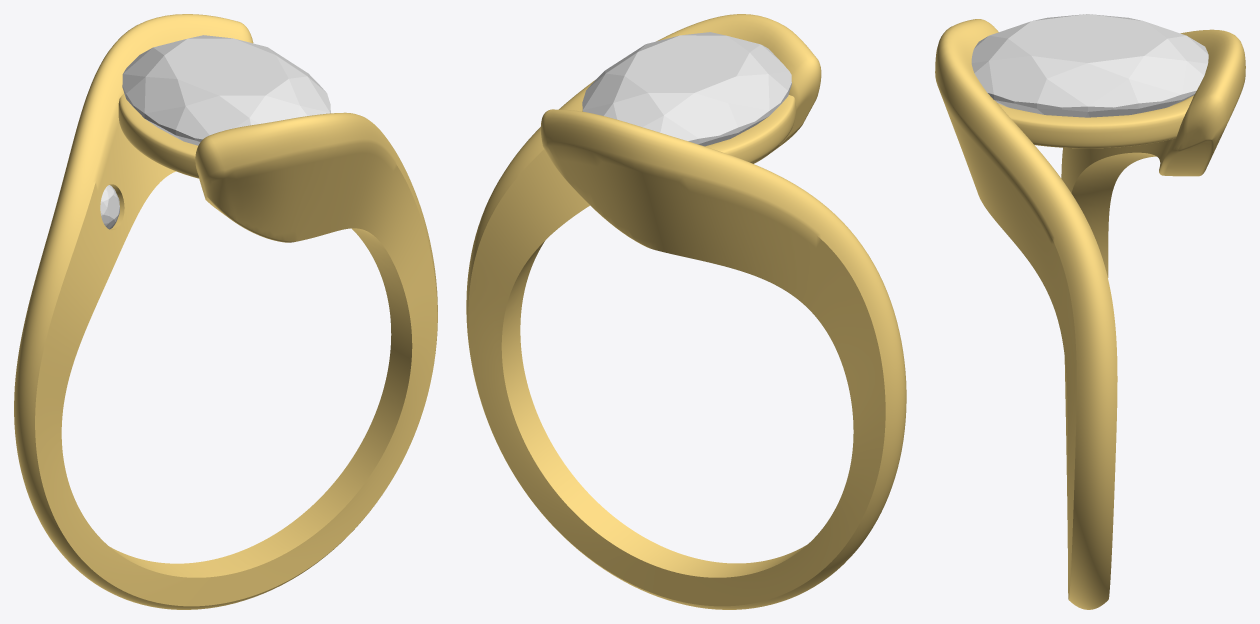
File: JCygBypassEng_blender.glb
3 renders of one model, left to right at view 1: azimuth 30°, elevation 25°; view 2: azimuth 150°, elevation 25°; view 3: azimuth 270°, elevation 25°, orthographic. The views are drawn at different scales.
Visible parts, largest first — view 1: JC YG for 3d model, JC dia for 3d model.002, JC dia for 3d model.001; view 2: JC YG for 3d model, JC dia for 3d model.002; view 3: JC YG for 3d model, JC dia for 3d model.002.
Boxes of the visible parts, box(x1,y1,x2,y2) form: JC YG for 3d model: box(14, 14, 437, 609); JC dia for 3d model.002: box(122, 35, 330, 145); JC dia for 3d model.001: box(100, 185, 119, 229); JC YG for 3d model: box(466, 14, 906, 609); JC dia for 3d model.002: box(582, 32, 791, 146); JC YG for 3d model: box(935, 19, 1245, 609); JC dia for 3d model.002: box(971, 14, 1208, 117).
Bounding box in the file's own units: 21.5 × 25.94 × 13.3.
